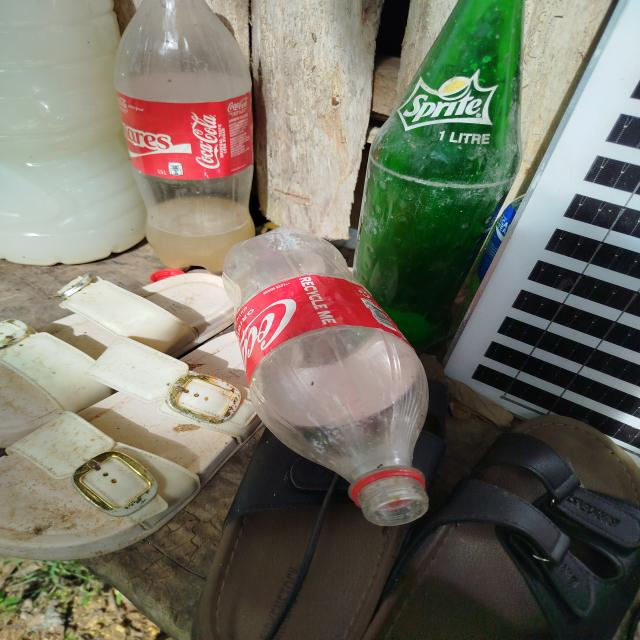glass: (352, 0, 542, 349)
plastic: (211, 226, 453, 536), (104, 0, 264, 279), (7, 3, 160, 282)
